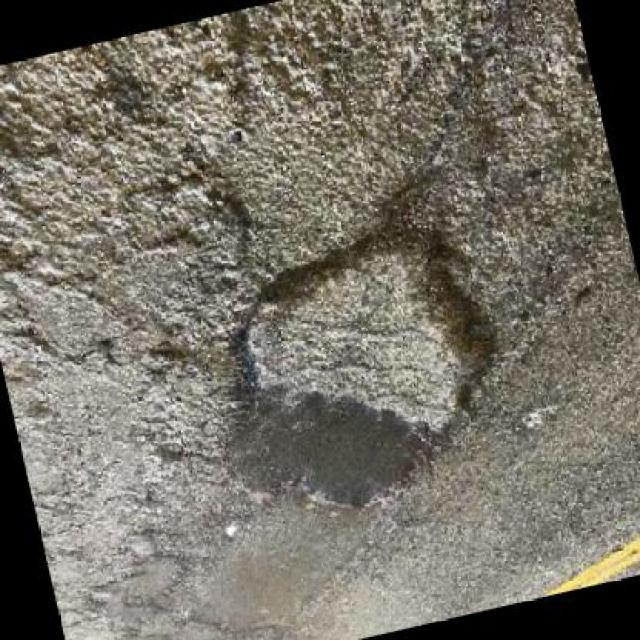pothole1: (172, 172, 534, 546)
